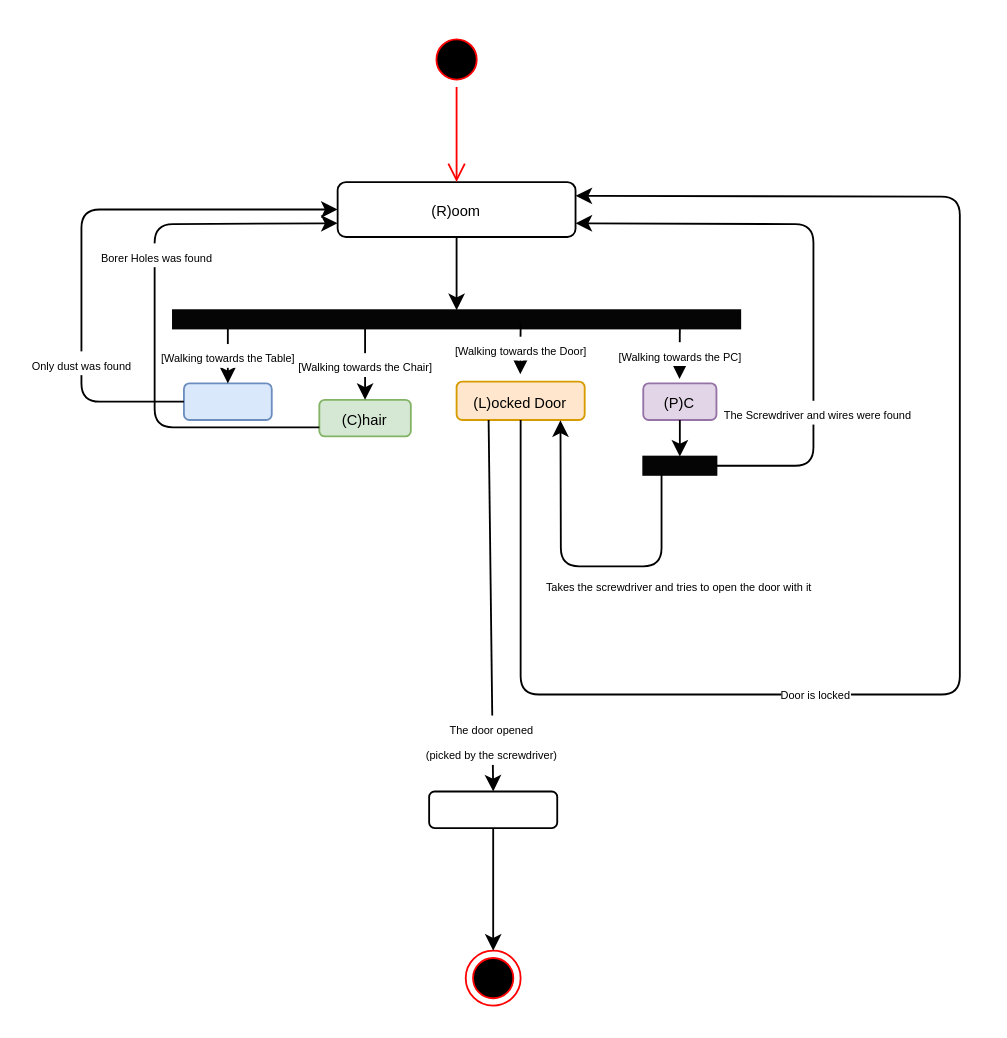
Some shapes in this 1007 by 1038 pixel diagram are drawn without their labels. The centre of each missing label's shape, as x and y in pixels:
(F)ree: the point at 492,809
(T)able: the point at 227,401
